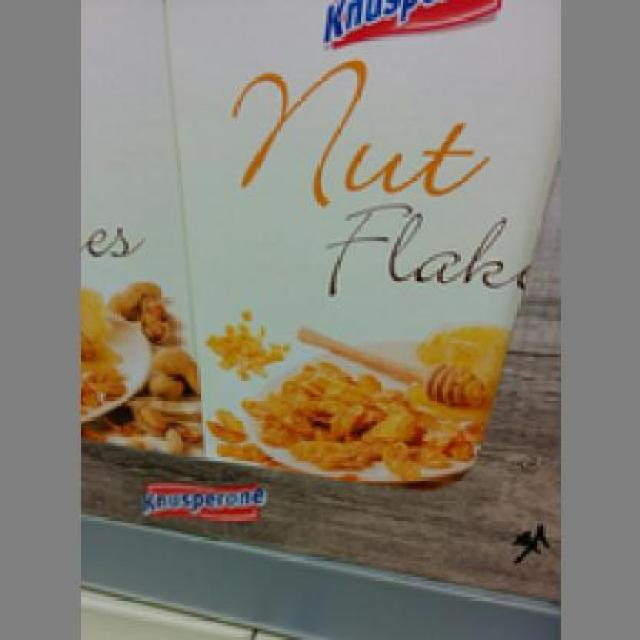Cereal: (160, 0, 554, 489)
